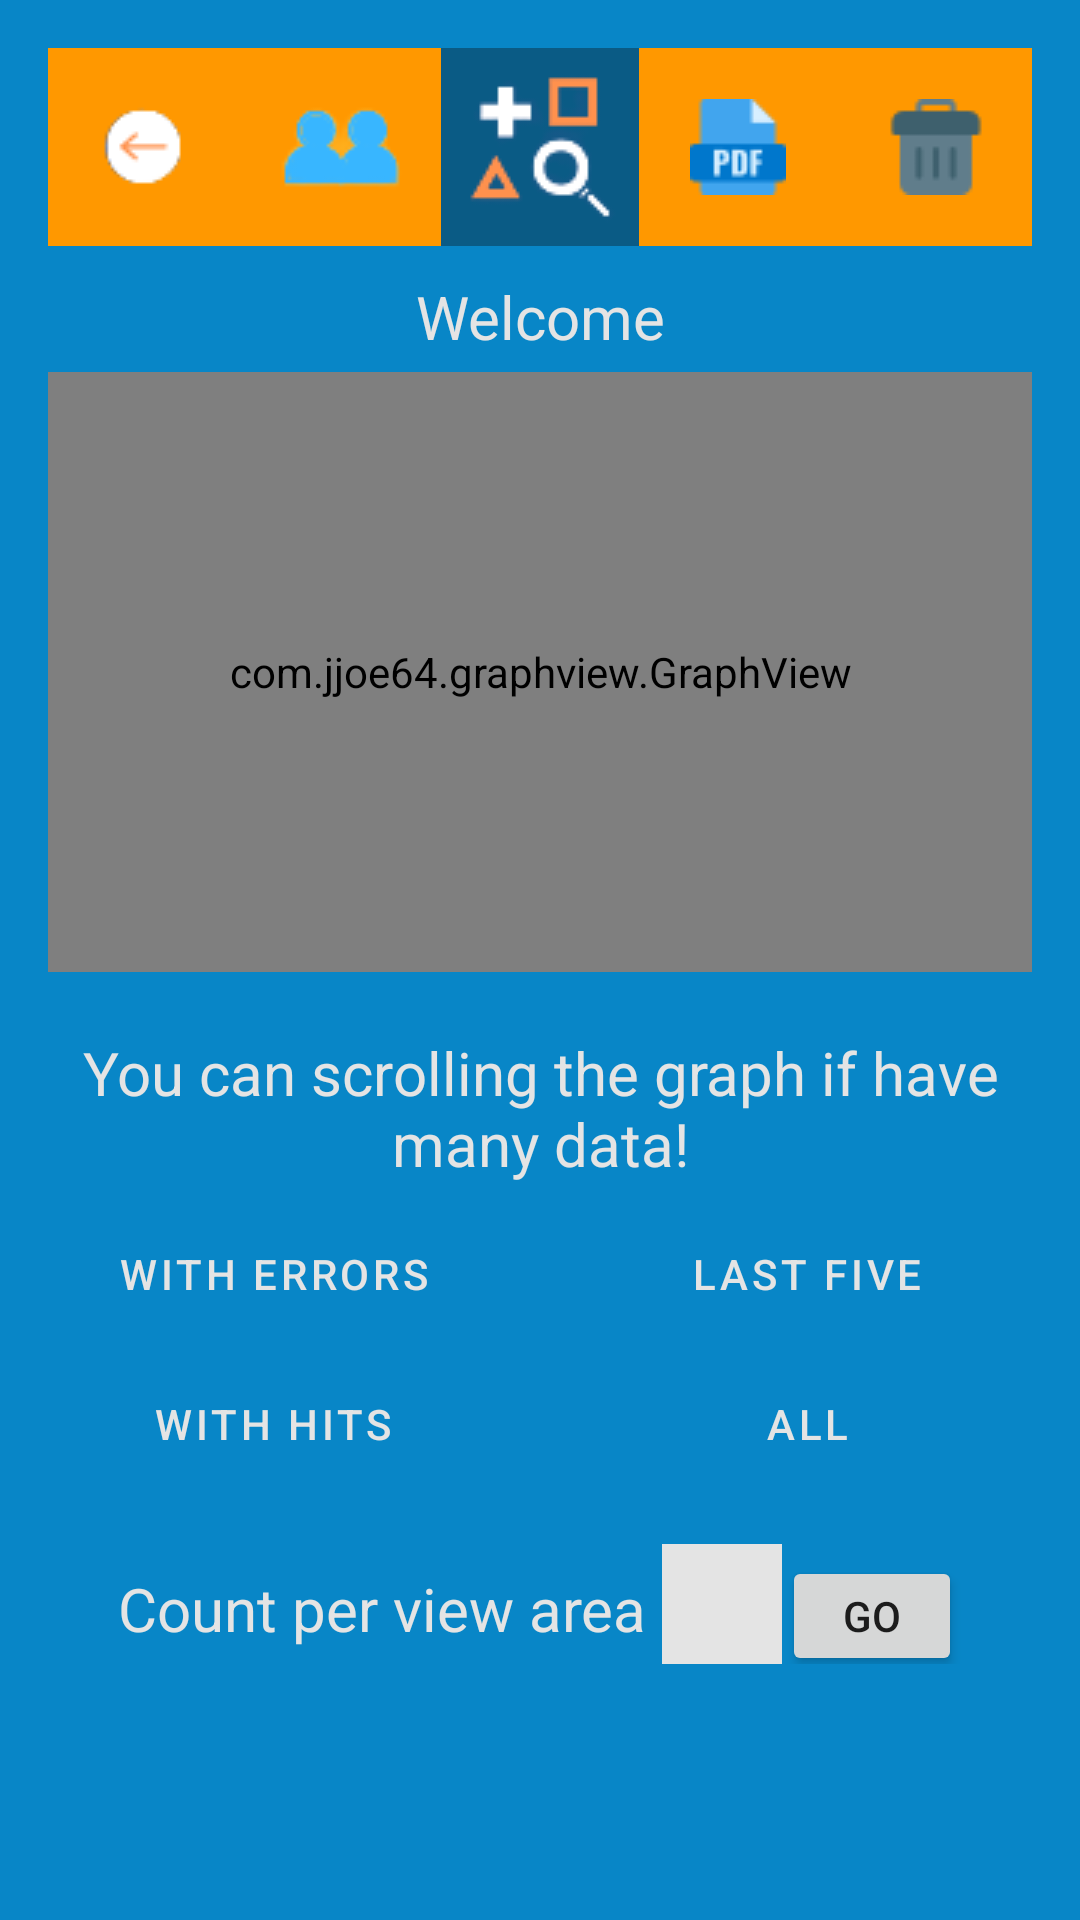

Where to tap for icons on this 1080px x 1920px app screen, as [x,y]:
profiles button: [342,147]
trash: [934,147]
